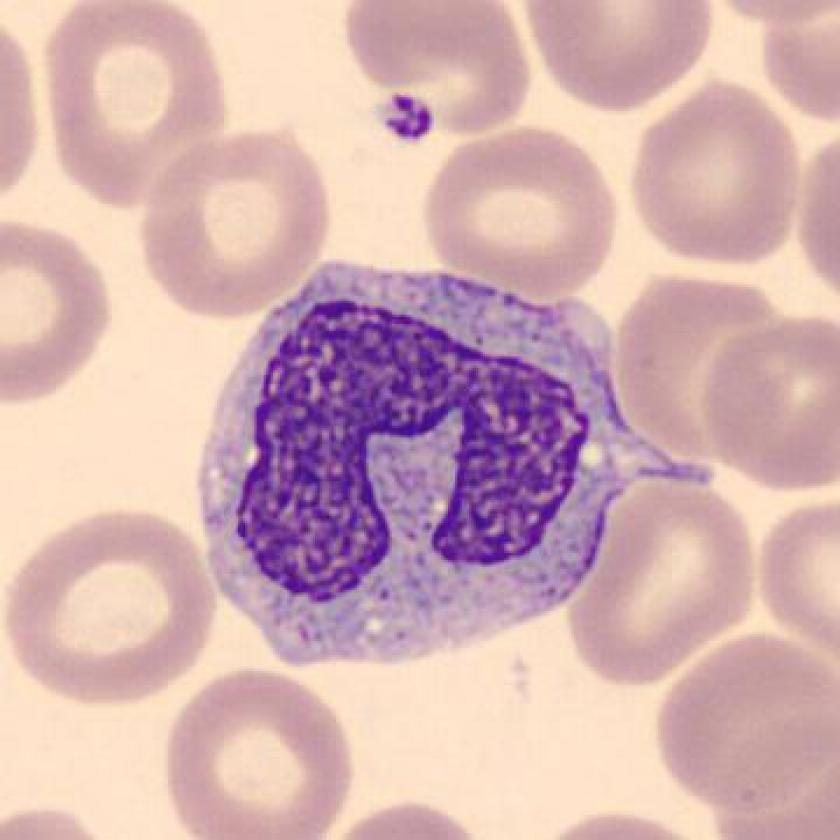monocyte: (183, 247, 720, 696)
